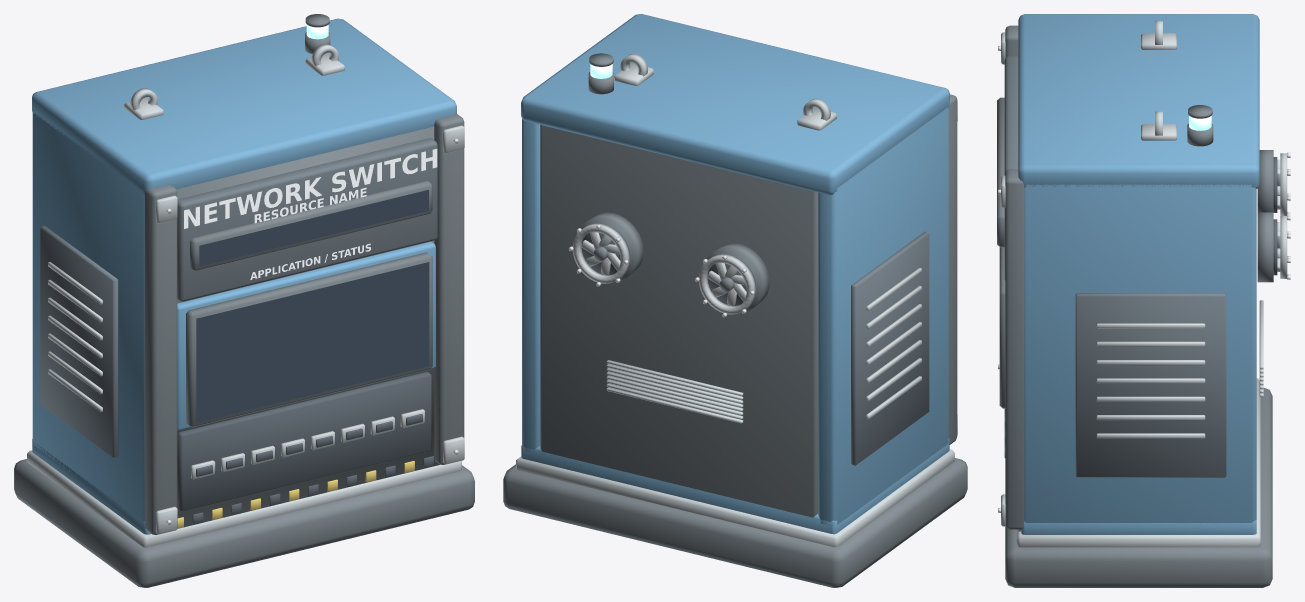
The model's file is network_switch_enhanced.glb.
3 renders of one model, left to right at view 1: azimuth 30°, elevation 25°; view 2: azimuth 150°, elevation 25°; view 3: azimuth 270°, elevation 25°, orthographic. The views are drawn at different scales.
Visible parts, largest first — view 1: Roof_blue, LiveViewSurface_glass, SideWall_blue, CornerPost_frame, Skid_frame, PatchPanel_black, FrontHeader_graphite, SideServicePanel_graphite, SealFront_frame, SkidDeck_steel, LiveViewSurfaceFrame_frame, ResourceNameSurface_glass (+14 smaller); view 2: BackWall_frame, Roof_blue, SideWall_blue, Skid_frame, SideServicePanel_graphite, SkidDeck_steel, KickPlate_blue, RearFan_steel, RearVent_steel, CornerPost_frame, RearFan_frame, SideLouver_steel (+3 smaller); view 3: SideWall_blue, Roof_blue, SideServicePanel_graphite, Skid_frame, CornerPost_frame, SideLouver_steel, SkidDeck_steel, KickPlate_blue, RearFan_frame, FrontHeader_graphite, RearFan_steel, LiveViewSurfaceFrame_frame (+7 smaller).
Boxes of the visible parts, x1,y1,x2,y2 form: Roof_blue: [32, 18, 456, 194]; LiveViewSurface_glass: [196, 262, 429, 422]; SideWall_blue: [32, 112, 144, 521]; CornerPost_frame: [144, 114, 464, 534]; Skid_frame: [14, 459, 474, 587]; PatchPanel_black: [177, 372, 431, 511]; FrontHeader_graphite: [177, 138, 437, 301]; SideServicePanel_graphite: [40, 226, 118, 457]; SealFront_frame: [176, 126, 439, 527]; SkidDeck_steel: [27, 450, 461, 547]; LiveViewSurfaceFrame_frame: [186, 252, 432, 427]; ResourceNameSurface_glass: [199, 189, 428, 266]; BackWall_frame: [540, 125, 818, 517]; Roof_blue: [521, 14, 949, 195]; SideWall_blue: [522, 107, 948, 525]; Skid_frame: [503, 458, 967, 587]; SideServicePanel_graphite: [851, 231, 929, 465]; SkidDeck_steel: [516, 449, 954, 547]; KickPlate_blue: [521, 438, 949, 534]; RearFan_steel: [572, 223, 755, 314]; RearVent_steel: [606, 360, 743, 423]; CornerPost_frame: [948, 94, 957, 444]; RearFan_frame: [581, 212, 769, 312]; SideLouver_steel: [866, 268, 921, 419]; SideWall_blue: [1024, 184, 1256, 525]; Roof_blue: [1018, 14, 1259, 188]; SideServicePanel_graphite: [1075, 293, 1226, 477]; Skid_frame: [1005, 388, 1272, 587]; CornerPost_frame: [1005, 25, 1024, 529]; SideLouver_steel: [1096, 323, 1205, 438]; SkidDeck_steel: [1017, 378, 1260, 547]; KickPlate_blue: [1021, 520, 1256, 534]; RearFan_frame: [1257, 150, 1273, 282]; FrontHeader_graphite: [1004, 56, 1018, 280]; RearFan_steel: [1277, 153, 1287, 278]; LiveViewSurfaceFrame_frame: [999, 247, 1005, 408].
Bounding box in the file's own units: 2 × 2.48 × 1.47.
